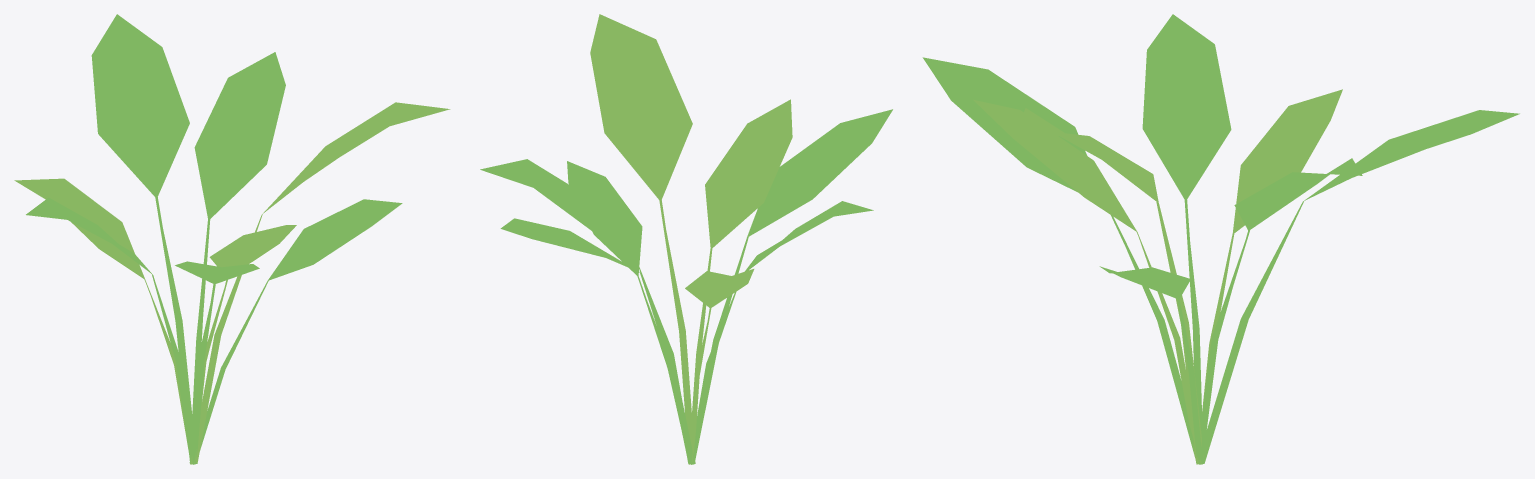
Rendered from Plant_j_OneS_05.fbx.
3 renders of one model, left to right at view 1: azimuth 30°, elevation 25°; view 2: azimuth 150°, elevation 25°; view 3: azimuth 270°, elevation 25°, orthographic. The views are drawn at different scales.
Visible parts, largest first — view 1: Plant_j_OneS_05; view 2: Plant_j_OneS_05; view 3: Plant_j_OneS_05.
Boxes of the visible parts, x1,y1,x2,y2 form: Plant_j_OneS_05: (14,14,450,464); Plant_j_OneS_05: (480,14,892,464); Plant_j_OneS_05: (922,14,1519,464).
Bounding box in the file's own units: 0.5224 × 0.5178 × 0.6559.
